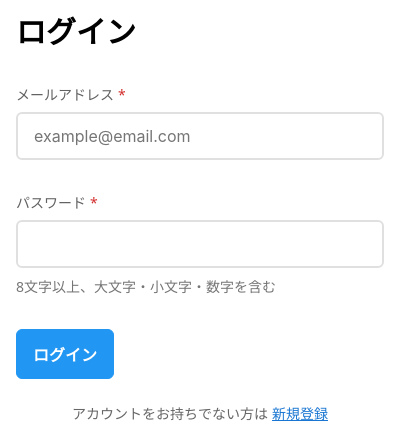
Test: LoginPage Component › should show validation error when password lacks uppercase
This screenshot has width=401, height=438.
Type "test@example.com" into the field labelled "メールアドレス*".
click(200, 136); type("test@example.com")  # box [16,112,384,160]
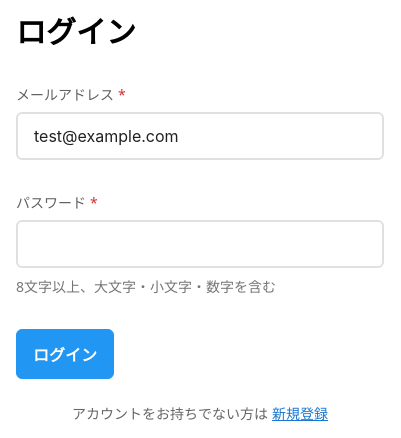
Type "password123" into the password field labelled "パスワード*".
click(200, 244); type("password123")  # box [16,220,384,268]
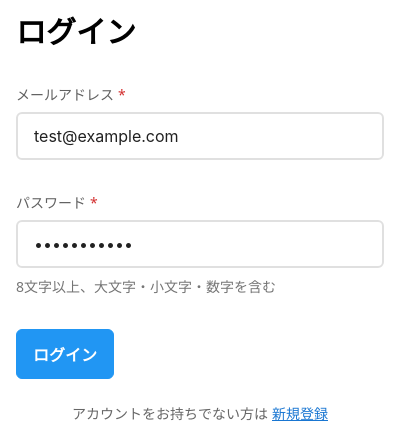
Click the button "ログイン".
click(65, 354)  # box [16,329,114,379]
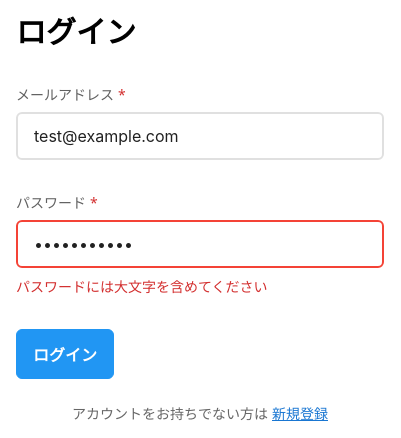
Now the text "パスワードには大文字を含めてください" is shown, box [16,277,268,296]
